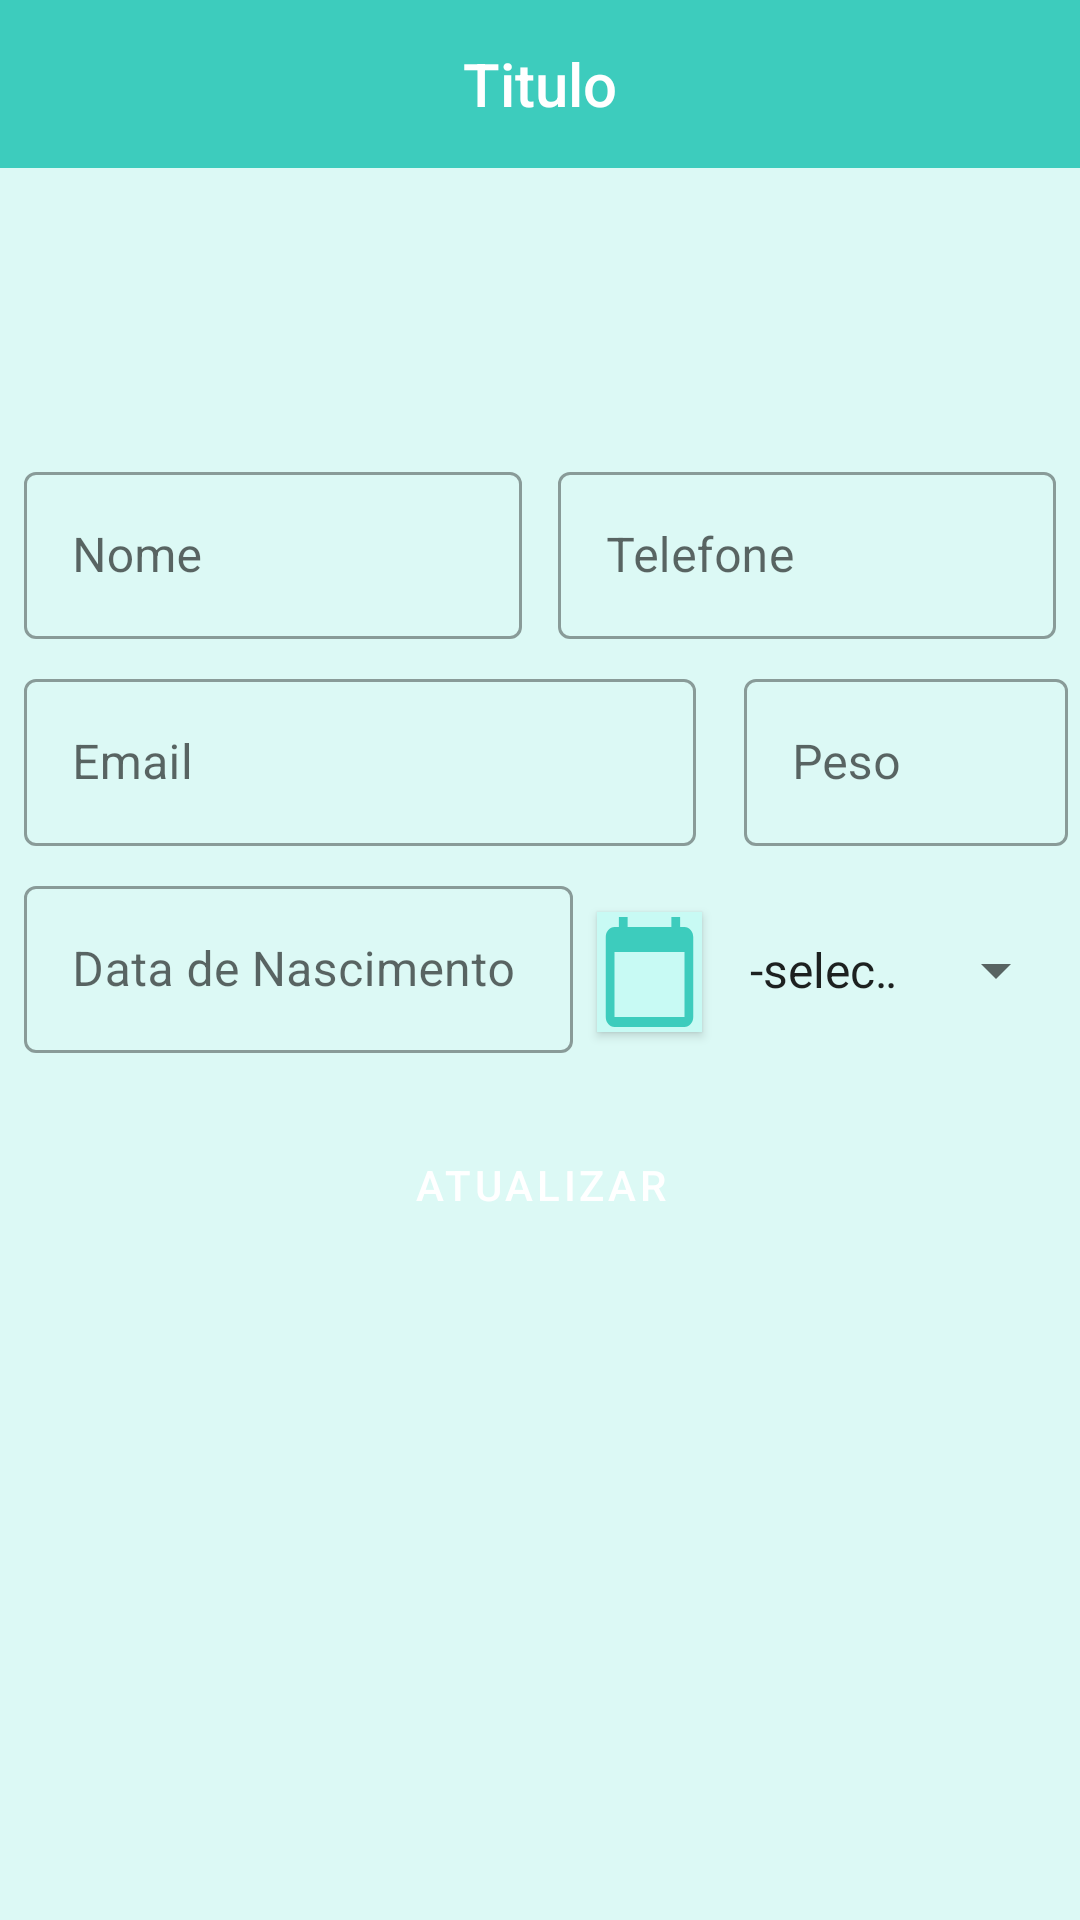

Icon bounding boxes for this 1080px×1920px phone screenshot, format (x1, y1, x2, y2):
calendar: (597, 912, 702, 1032)
